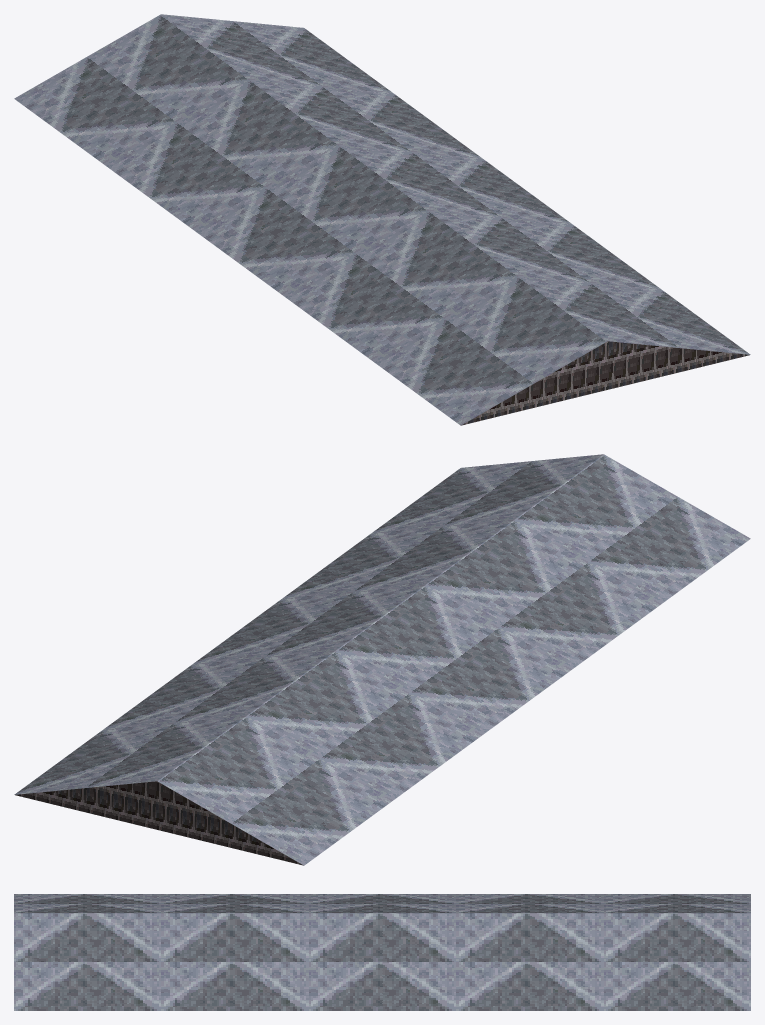
File: fl_shiso.glb
3 renders of one model, top to bottom at view 1: azimuth 30°, elevation 25°; view 2: azimuth 150°, elevation 25°; view 3: azimuth 270°, elevation 25°, orthographic. The views are drawn at different scales.
Parts seen in each view (by area): view 1: fl_shiso; view 2: fl_shiso; view 3: fl_shiso.
Boxes of the visible parts, bbox=[...] form: fl_shiso: bbox=[14, 14, 750, 425]; fl_shiso: bbox=[14, 454, 750, 865]; fl_shiso: bbox=[14, 894, 750, 1010].
Size of the model in its own units: 93.75 by 15 by 250.
Materials: 2 (2 with a texture image).
